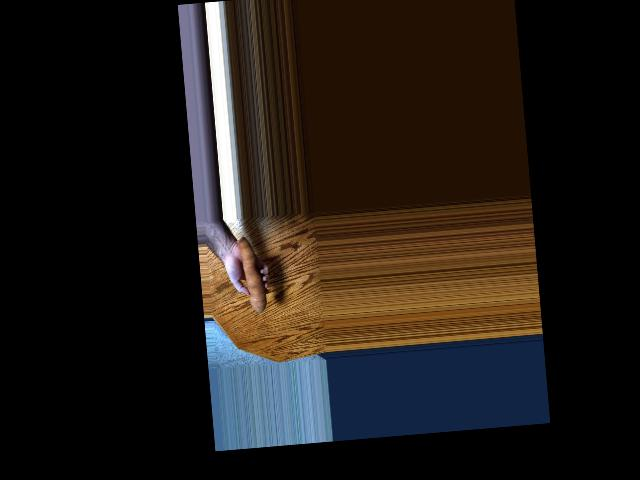sweet_potato: (236, 238, 272, 314)
